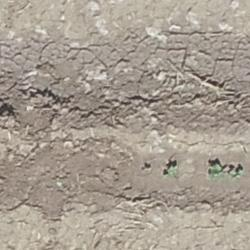cotton: (211, 164, 221, 174), (168, 165, 177, 172), (235, 168, 242, 175)
